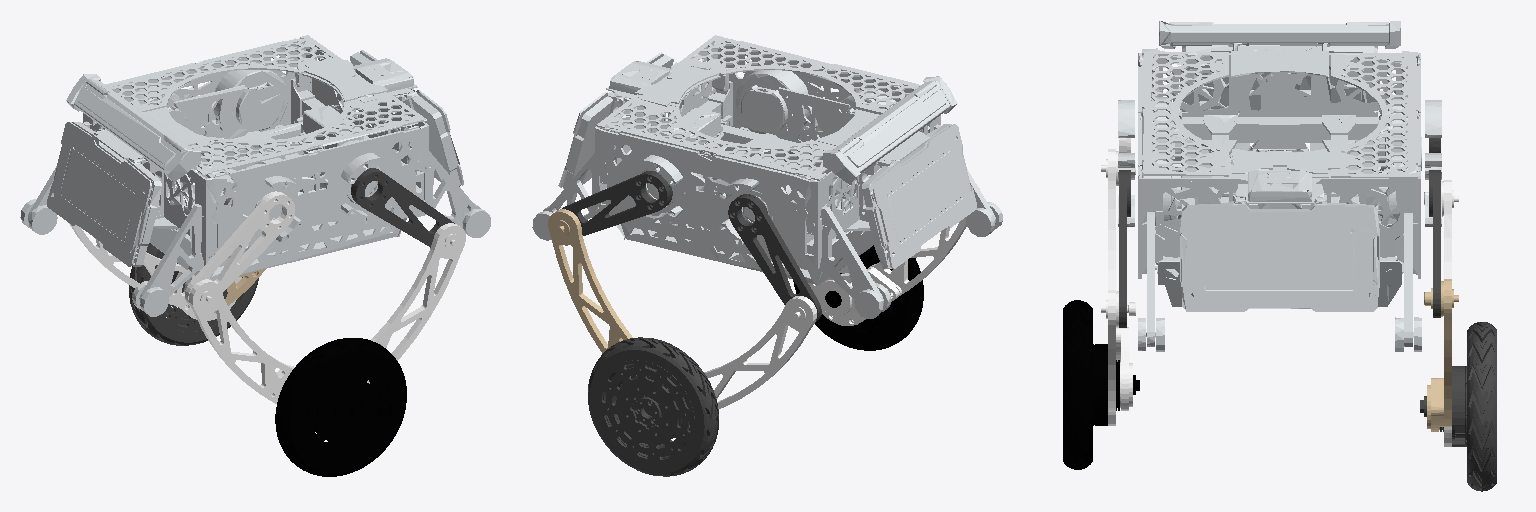
The robot description file, URDF, robot "wheel_leg_rb":
<?xml version="1.0" encoding="utf-8"?>
<!-- This URDF was automatically created by SolidWorks to URDF Exporter! Originally created by [author] ([email redacted]) 
     Commit Version: 1.6.0-4-g7f85cfe  Build Version: 1.6.7995.38578
     For more information, please see http://wiki.ros.org/sw_urdf_exporter -->
<robot
  name="wheel_leg_rb">

  <mujoco>
        <compiler 
        meshdir="[local-path]/model_urdf/wheel_leg_rb/meshes/" 
        balanceinertia="true" 
        discardvisual="false" />
  </mujoco>

  <link
    name="base_link">
    <inertial>
      <origin
        xyz="0.00234896642138976 0.000528264476886211 0.0292998878447767"
        rpy="0 0 0" />
      <mass
        value="6.96701060654247" />
      <inertia
        ixx="0.0180580342987764"
        ixy="7.65479218270793E-07"
        ixz="-8.1565087954324E-06"
        iyy="0.0201571580373544"
        iyz="4.41750032728832E-06"
        izz="0.0290320991948916" />
    </inertial>
    <visual>
      <origin
        xyz="0 0 0"
        rpy="0 0 0" />
      <geometry>
        <mesh
          filename="package://wheel_leg_rb/meshes/base_link.STL" />
      </geometry>
      <material
        name="">
        <color
          rgba="0.898039215686275 0.917647058823529 0.929411764705882 1" />
      </material>
    </visual>
    <collision>
      <origin
        xyz="0 0 0"
        rpy="0 0 0" />
      <geometry>
        <mesh
          filename="package://wheel_leg_rb/meshes/base_link.STL" />
      </geometry>
    </collision>
  </link>
  <link
    name="left_hipL_link">
    <inertial>
      <origin
        xyz="0.055432 -0.00075146 -0.033127"
        rpy="0 0 0" />
      <mass
        value="0.14833" />
      <inertia
        ixx="0.00013751"
        ixy="-3.7915E-07"
        ixz="0.00016166"
        iyy="0.00044164"
        iyz="2.2659E-07"
        izz="0.00030639" />
    </inertial>
    <visual>
      <origin
        xyz="0 0 0"
        rpy="0 0 0" />
      <geometry>
        <mesh
          filename="package://wheel_leg_rb/meshes/left_hipL_link.STL" />
      </geometry>
      <material
        name="">
        <color
          rgba="0.33333 0.33333 0.33333 1" />
      </material>
    </visual>
    <collision>
      <origin
        xyz="0 0 0"
        rpy="0 0 0" />
      <geometry>
        <mesh
          filename="package://wheel_leg_rb/meshes/left_hipL_link.STL" />
      </geometry>
    </collision>
  </link>
  <joint
    name="left_hipL_joint"
    type="revolute">
    <origin
      xyz="0.075163 0.18486 0.058"
      rpy="0 0 0" />
    <parent
      link="base_link" />
    <child
      link="left_hipL_link" />
    <axis
      xyz="0 1 0" />
    <limit
      lower="0"
      upper="0"
      effort="0"
      velocity="0" />
  </joint>
  <link
    name="left_kneelL_link">
    <inertial>
      <origin
        xyz="-0.07826 -0.008148 -0.13121"
        rpy="0 0 0" />
      <mass
        value="0.38007" />
      <inertia
        ixx="0.00083457"
        ixy="-4.8534E-06"
        ixz="-0.000449"
        iyy="0.0012354"
        iyz="-3.2763E-06"
        izz="0.00041614" />
    </inertial>
    <visual>
      <origin
        xyz="0 0 0"
        rpy="0 0 0" />
      <geometry>
        <mesh
          filename="package://wheel_leg_rb/meshes/left_kneelL_link.STL" />
      </geometry>
      <material
        name="">
        <color
          rgba="0.88235 0.79608 0.65882 1" />
      </material>
    </visual>
    <collision>
      <origin
        xyz="0 0 0"
        rpy="0 0 0" />
      <geometry>
        <mesh
          filename="package://wheel_leg_rb/meshes/left_kneelL_link.STL" />
      </geometry>
    </collision>
  </link>
  <joint
    name="left_kneelL_joint"
    type="revolute">
    <origin
      xyz="0.12884 0.0135 -0.076809"
      rpy="0 0 0" />
    <parent
      link="left_hipL_link" />
    <child
      link="left_kneelL_link" />
    <axis
      xyz="0 1 0" />
    <limit
      lower="0"
      upper="0"
      effort="0"
      velocity="0" />
  </joint>
  <link
    name="left_wheel_link">
    <inertial>
      <origin
        xyz="-0.00030304 0.035782 0.00018059"
        rpy="0 0 0" />
      <mass
        value="1.9175" />
      <inertia
        ixx="0.0047892"
        ixy="3.1074E-06"
        ixz="-1.0633E-05"
        iyy="0.009277"
        iyz="-1.68E-06"
        izz="0.0047739" />
    </inertial>
    <visual>
      <origin
        xyz="0 0 0"
        rpy="0 0 0" />
      <geometry>
        <mesh
          filename="package://wheel_leg_rb/meshes/left_wheel_link.STL" />
      </geometry>
      <material
        name="">
        <color
          rgba="0.33333 0.33333 0.33333 1" />
      </material>
    </visual>
    <collision>
      <origin
        xyz="0 0 0"
        rpy="0 0 0" />
      <geometry>
        <mesh
          filename="package://wheel_leg_rb/meshes/left_wheel_link.STL" />
      </geometry>
    </collision>
  </link>
  <joint
    name="left_wheel_joint"
    type="continuous">
    <origin
      xyz="-0.16236 -0.0005 -0.21573"
      rpy="0 0 0" />
    <parent
      link="left_kneelL_link" />
    <child
      link="left_wheel_link" />
    <axis
      xyz="0 1 0" />
  </joint>
  <link
    name="left_hipR_link">
    <inertial>
      <origin
        xyz="-0.038877 -0.00074733 -0.051295"
        rpy="0 0 0" />
      <mass
        value="0.14882" />
      <inertia
        ixx="0.0002751"
        ixy="2.5518E-07"
        ixz="-0.0001762"
        iyy="0.00044439"
        iyz="3.367E-07"
        izz="0.00017155" />
    </inertial>
    <visual>
      <origin
        xyz="0 0 0"
        rpy="0 0 0" />
      <geometry>
        <mesh
          filename="package://wheel_leg_rb/meshes/left_hipR_link.STL" />
      </geometry>
      <material
        name="">
        <color
          rgba="0.33333 0.33333 0.33333 1" />
      </material>
    </visual>
    <collision>
      <origin
        xyz="0 0 0"
        rpy="0 0 0" />
      <geometry>
        <mesh
          filename="package://wheel_leg_rb/meshes/left_hipR_link.STL" />
      </geometry>
    </collision>
  </link>
  <joint
    name="left_hipR_joint"
    type="revolute">
    <origin
      xyz="-0.074837 0.18486 0.058"
      rpy="0 0 0" />
    <parent
      link="base_link" />
    <child
      link="left_hipR_link" />
    <axis
      xyz="0 1 0" />
    <limit
      lower="0"
      upper="0"
      effort="0"
      velocity="0" />
  </joint>
  <link
    name="left_kneelR_link">
    <inertial>
      <origin
        xyz="0.10721 -0.0022722 -0.10246"
        rpy="0 0 0" />
      <mass
        value="0.3063" />
      <inertia
        ixx="0.0011212"
        ixy="8.4524E-07"
        ixz="0.0012602"
        iyy="0.0029352"
        iyz="-9.8977E-07"
        izz="0.0018265" />
    </inertial>
    <visual>
      <origin
        xyz="0 0 0"
        rpy="0 0 0" />
      <geometry>
        <mesh
          filename="package://wheel_leg_rb/meshes/left_kneelR_link.STL" />
      </geometry>
      <material
        name="">
        <color
          rgba="1 1 1 1" />
      </material>
    </visual>
    <collision>
      <origin
        xyz="0 0 0"
        rpy="0 0 0" />
      <geometry>
        <mesh
          filename="package://wheel_leg_rb/meshes/left_kneelR_link.STL" />
      </geometry>
    </collision>
  </link>
  <joint
    name="left_kneelR_joint"
    type="revolute">
    <origin
      xyz="-0.090732 0.0135 -0.11945"
      rpy="0 0 0" />
    <parent
      link="left_hipR_link" />
    <child
      link="left_kneelR_link" />
    <axis
      xyz="0 1 0" />
    <limit
      lower="0"
      upper="0"
      effort="0"
      velocity="0" />
  </joint>
  <link
    name="right_hipL_link">
    <inertial>
      <origin
        xyz="0.049138 0.00066859 -0.0419"
        rpy="0 0 0" />
      <mass
        value="0.14833" />
      <inertia
        ixx="0.00019532"
        ixy="-3.361E-07"
        ixz="0.00018043"
        iyy="0.00044164"
        iyz="2.8659E-07"
        izz="0.00024858" />
    </inertial>
    <visual>
      <origin
        xyz="0 0 0"
        rpy="0 0 0" />
      <geometry>
        <mesh
          filename="package://wheel_leg_rb/meshes/right_hipL_link.STL" />
      </geometry>
      <material
        name="">
        <color
          rgba="0.33333 0.33333 0.33333 1" />
      </material>
    </visual>
    <collision>
      <origin
        xyz="0 0 0"
        rpy="0 0 0" />
      <geometry>
        <mesh
          filename="package://wheel_leg_rb/meshes/right_hipL_link.STL" />
      </geometry>
    </collision>
  </link>
  <joint
    name="right_hipL_joint"
    type="revolute">
    <origin
      xyz="0.075163 -0.18414 0.058"
      rpy="0 0 0" />
    <parent
      link="base_link" />
    <child
      link="right_hipL_link" />
    <axis
      xyz="0 1 0" />
    <limit
      lower="0"
      upper="0"
      effort="0"
      velocity="0" />
  </joint>
  <link
    name="right_kneelL_link">
    <inertial>
      <origin
        xyz="-0.10294 0.0016697 -0.1149"
        rpy="0 0 0" />
      <mass
        value="0.29445" />
      <inertia
        ixx="0.0013194"
        ixy="7.6614E-07"
        ixz="-0.0012995"
        iyy="0.0029342"
        iyz="1.0522E-06"
        izz="0.0016273" />
    </inertial>
    <visual>
      <origin
        xyz="0 0 0"
        rpy="0 0 0" />
      <geometry>
        <mesh
          filename="package://wheel_leg_rb/meshes/right_kneelL_link.STL" />
      </geometry>
      <material
        name="">
        <color
          rgba="1 1 1 1" />
      </material>
    </visual>
    <collision>
      <origin
        xyz="0 0 0"
        rpy="0 0 0" />
      <geometry>
        <mesh
          filename="package://wheel_leg_rb/meshes/right_kneelL_link.STL" />
      </geometry>
    </collision>
  </link>
  <joint
    name="right_kneelL_joint"
    type="revolute">
    <origin
      xyz="0.11424 -0.0135 -0.097203"
      rpy="0 0 0" />
    <parent
      link="right_hipL_link" />
    <child
      link="right_kneelL_link" />
    <axis
      xyz="0 1 0" />
    <limit
      lower="0"
      upper="0"
      effort="0"
      velocity="0" />
  </joint>
  <link
    name="right_hipR_link">
    <inertial>
      <origin
        xyz="-0.050507 0.00066803 -0.039895"
        rpy="0 0 0" />
      <mass
        value="0.14882" />
      <inertia
        ixx="0.00018295"
        ixy="3.3152E-07"
        ixz="-0.00017916"
        iyy="0.00044439"
        iyz="2.6187E-07"
        izz="0.0002637" />
    </inertial>
    <visual>
      <origin
        xyz="0 0 0"
        rpy="0 0 0" />
      <geometry>
        <mesh
          filename="package://wheel_leg_rb/meshes/right_hipR_link.STL" />
      </geometry>
      <material
        name="">
        <color
          rgba="1 1 1 1" />
      </material>
    </visual>
    <collision>
      <origin
        xyz="0 0 0"
        rpy="0 0 0" />
      <geometry>
        <mesh
          filename="package://wheel_leg_rb/meshes/right_hipR_link.STL" />
      </geometry>
    </collision>
  </link>
  <joint
    name="right_hipR_joint"
    type="revolute">
    <origin
      xyz="-0.074837 -0.18414 0.058"
      rpy="0 0 0" />
    <parent
      link="base_link" />
    <child
      link="right_hipR_link" />
    <axis
      xyz="0 1 0" />
    <limit
      lower="0"
      upper="0"
      effort="0"
      velocity="0" />
  </joint>
  <link
    name="right_kneelR_link">
    <inertial>
      <origin
        xyz="0.094546 0.008148 -0.12001"
        rpy="0 0 0" />
      <mass
        value="0.38007" />
      <inertia
        ixx="0.00071262"
        ixy="-5.2358E-06"
        ixz="0.0004876"
        iyy="0.0012354"
        iyz="2.6223E-06"
        izz="0.00053809" />
    </inertial>
    <visual>
      <origin
        xyz="0 0 0"
        rpy="0 0 0" />
      <geometry>
        <mesh
          filename="package://wheel_leg_rb/meshes/right_kneelR_link.STL" />
      </geometry>
      <material
        name="">
        <color
          rgba="1 1 1 1" />
      </material>
    </visual>
    <collision>
      <origin
        xyz="0 0 0"
        rpy="0 0 0" />
      <geometry>
        <mesh
          filename="package://wheel_leg_rb/meshes/right_kneelR_link.STL" />
      </geometry>
    </collision>
  </link>
  <joint
    name="right_kneelR_joint"
    type="revolute">
    <origin
      xyz="-0.11781 -0.0135 -0.092849"
      rpy="0 0 0" />
    <parent
      link="right_hipR_link" />
    <child
      link="right_kneelR_link" />
    <axis
      xyz="0 1 0" />
    <limit
      lower="0"
      upper="0"
      effort="0"
      velocity="0" />
  </joint>
  <link
    name="right_wheel_link">
    <inertial>
      <origin
        xyz="0.00020616 -0.035782 0.00028625"
        rpy="0 0 0" />
      <mass
        value="1.9175" />
      <inertia
        ixx="0.004779"
        ixy="2.1824E-06"
        ixz="1.2833E-05"
        iyy="0.009277"
        iyz="2.7777E-06"
        izz="0.0047841" />
    </inertial>
    <visual>
      <origin
        xyz="0 0 0"
        rpy="0 0 0" />
      <geometry>
        <mesh
          filename="package://wheel_leg_rb/meshes/right_wheel_link.STL" />
      </geometry>
      <material
        name="">
        <color
          rgba="0.019608 0.019608 0.019608 1" />
      </material>
    </visual>
    <collision>
      <origin
        xyz="0 0 0"
        rpy="0 0 0" />
      <geometry>
        <mesh
          filename="package://wheel_leg_rb/meshes/right_wheel_link.STL" />
      </geometry>
    </collision>
  </link>
  <joint
    name="right_wheel_joint"
    type="continuous">
    <origin
      xyz="0.18885 0.0005 -0.19296"
      rpy="0 0 0" />
    <parent
      link="right_kneelR_link" />
    <child
      link="right_wheel_link" />
    <axis
      xyz="0 1 0" />
  </joint>
</robot>

--- Render facts (derived) ---
3 views of the same robot in one strip: view 1: azimuth 30°, elevation 25°; view 2: azimuth 150°, elevation 25°; view 3: azimuth 270°, elevation 25° (orthographic).
Robot: wheel_leg_rb — 11 links, 10 joints (8 revolute, 2 continuous); root link base_link; default pose: every joint at zero.
Visible links, largest first — view 1: base_link, right_wheel_link, right_kneelR_link, right_kneelL_link, right_hipR_link, left_wheel_link, right_hipL_link, left_kneelR_link, left_kneelL_link; view 2: base_link, left_wheel_link, right_wheel_link, left_kneelL_link, left_hipR_link, left_kneelR_link, left_hipL_link, right_kneelR_link; view 3: base_link, right_wheel_link, left_wheel_link, left_kneelL_link, right_kneelR_link, right_hipL_link, right_kneelL_link, left_hipL_link, left_kneelR_link.
Link boxes in pixels (x1,y1,x2,y2): base_link: [20, 35, 490, 316]; right_wheel_link: [275, 338, 406, 476]; right_kneelR_link: [189, 279, 294, 403]; right_kneelL_link: [367, 223, 465, 383]; right_hipR_link: [185, 191, 294, 305]; left_wheel_link: [129, 243, 258, 345]; right_hipL_link: [351, 168, 454, 247]; left_kneelR_link: [69, 223, 241, 320]; left_kneelL_link: [214, 269, 265, 312]; base_link: [532, 35, 1002, 318]; left_wheel_link: [588, 337, 718, 476]; right_wheel_link: [793, 245, 923, 350]; left_kneelL_link: [548, 209, 636, 377]; left_hipR_link: [728, 194, 821, 322]; left_kneelR_link: [704, 296, 816, 408]; left_hipL_link: [562, 171, 672, 235]; right_kneelR_link: [817, 182, 979, 317]; base_link: [1118, 21, 1441, 351]; right_wheel_link: [1063, 300, 1139, 469]; left_wheel_link: [1420, 322, 1496, 491]; left_kneelL_link: [1424, 279, 1458, 431]; right_kneelR_link: [1101, 149, 1135, 410]; right_hipL_link: [1119, 170, 1130, 327]; right_kneelL_link: [1101, 290, 1135, 425]; left_hipL_link: [1429, 170, 1440, 317]; left_kneelR_link: [1424, 180, 1458, 446].
Bounding box of the posed robot: 0.5444 × 0.5118 × 0.4946 m (x, y, z).
11 mesh visuals loaded from 11 distinct referenced files (11 binary STL).